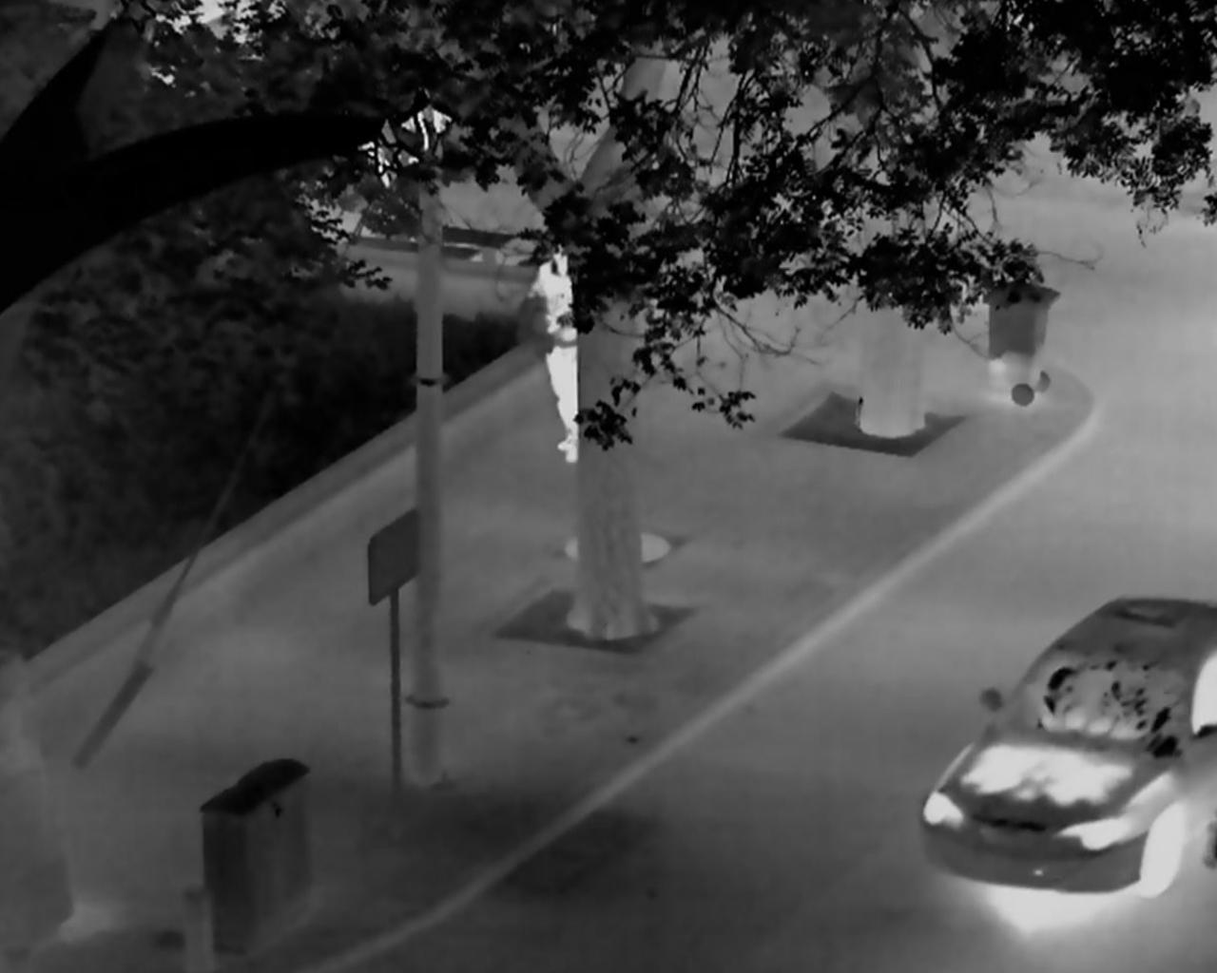person: (523, 243, 580, 465)
